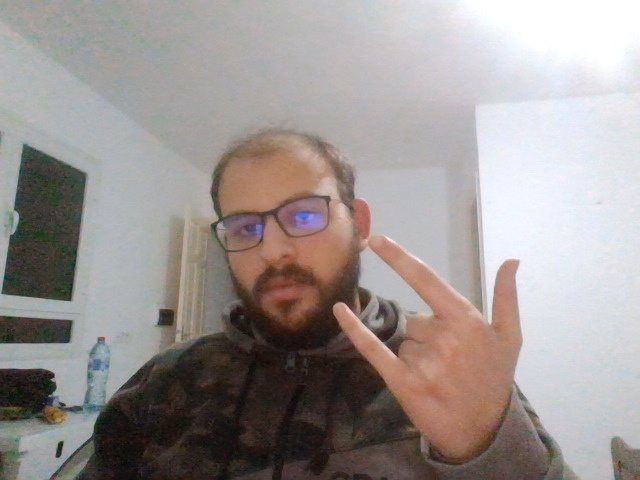I Love You: (339, 239, 524, 422)
